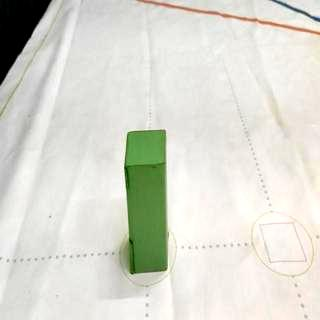greenbox: (126, 130, 168, 274)
